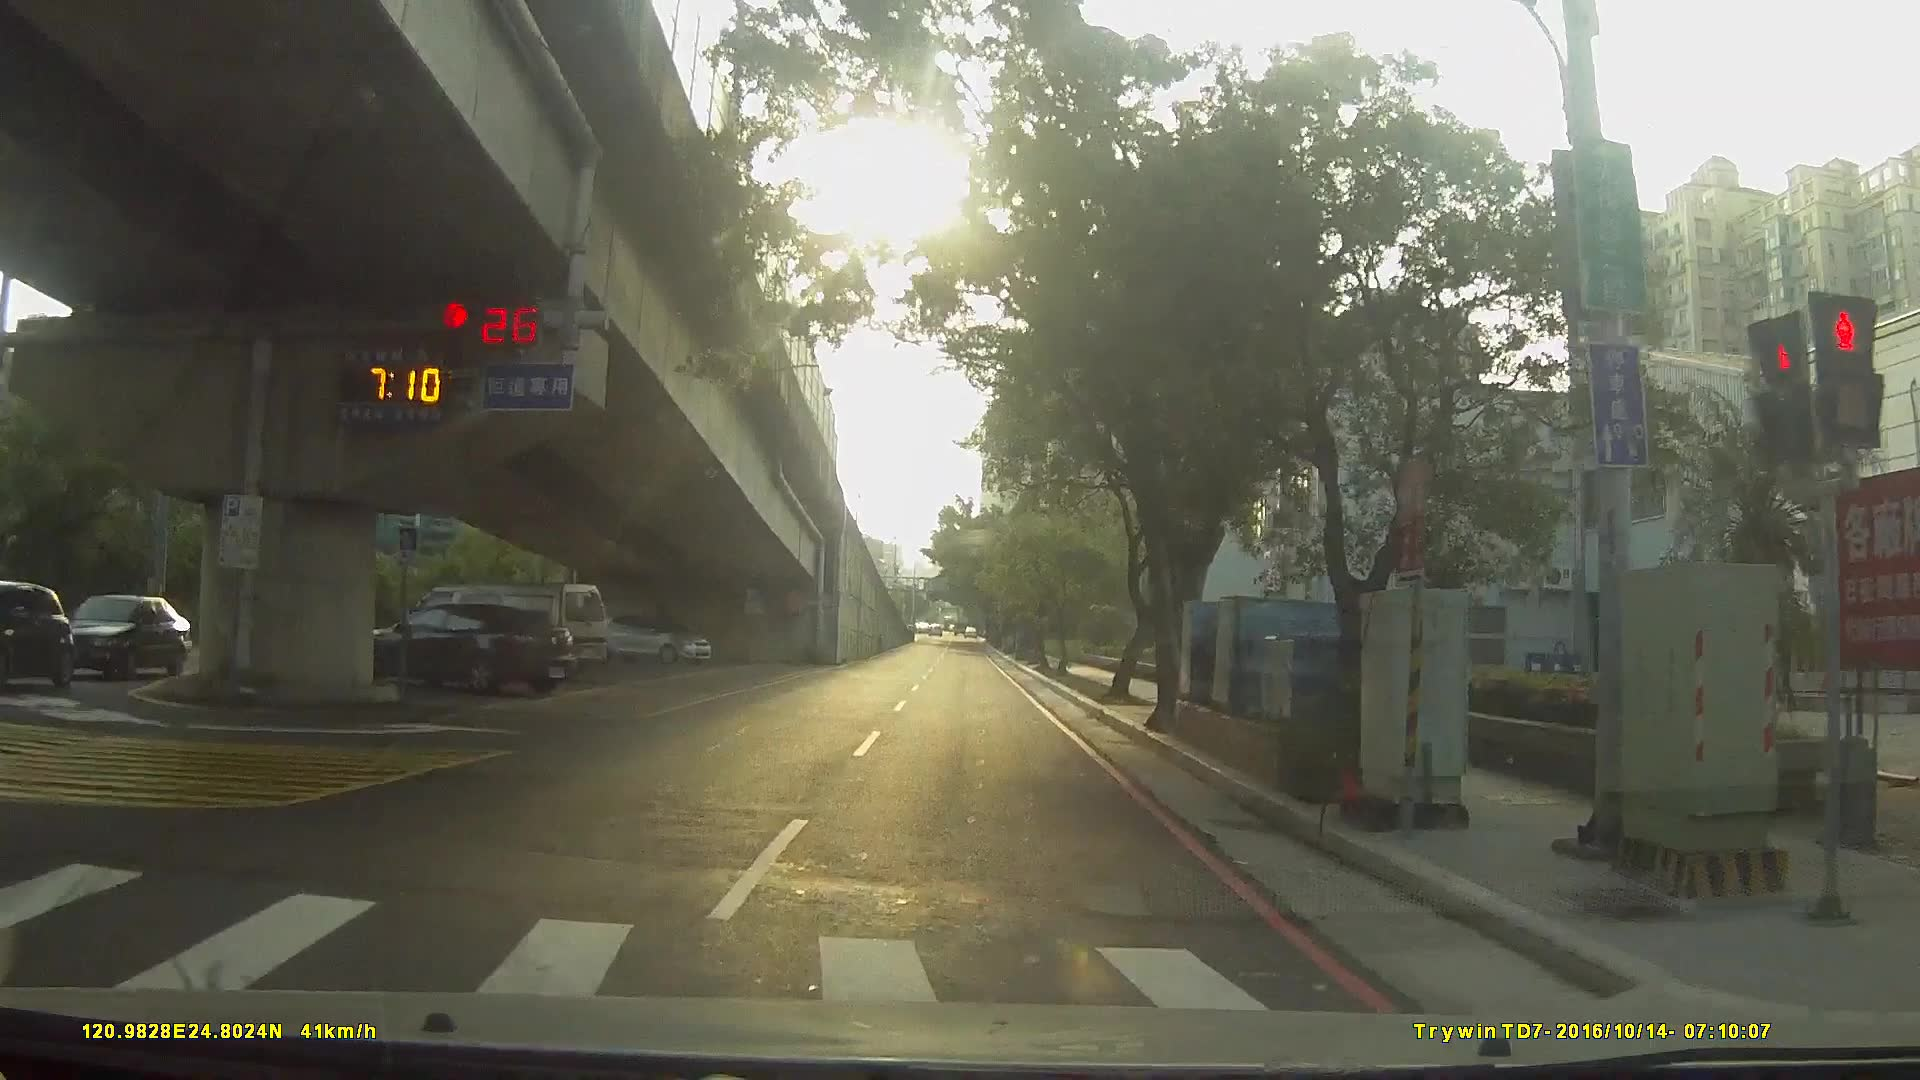vehicle: (339, 596, 574, 694), (392, 578, 604, 679), (55, 585, 200, 676), (1, 578, 80, 686), (585, 608, 712, 665)
